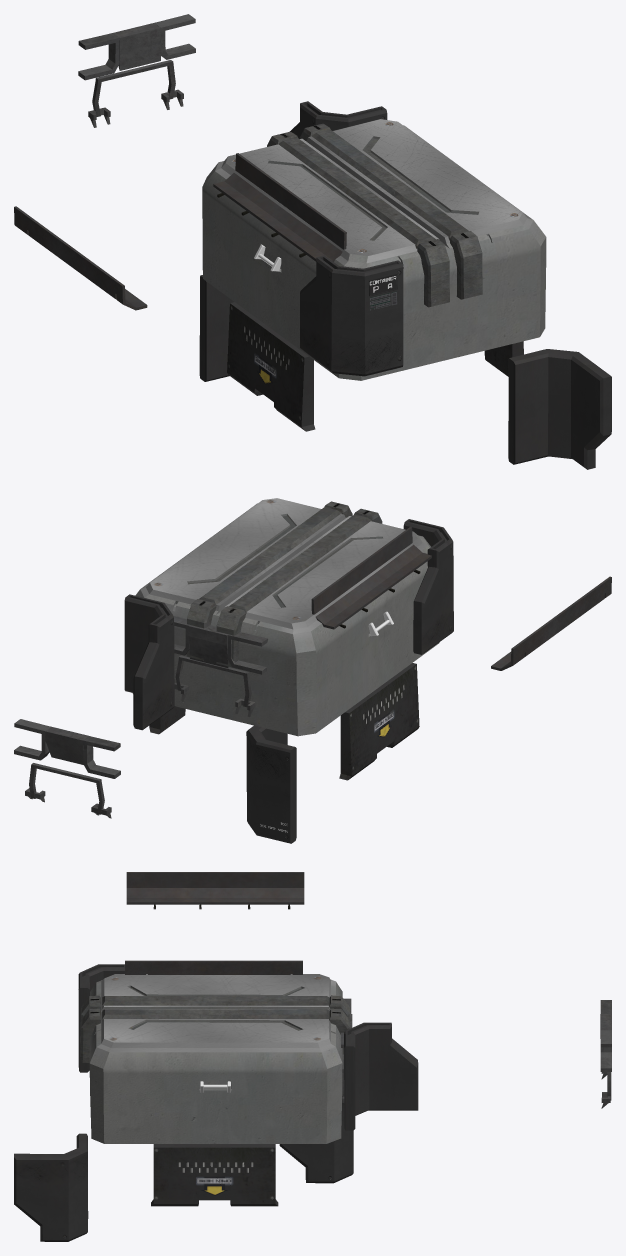
The model's file is Marine_Ammo_Box.FBX.
3 views of the same model, one above another, from view 1: azimuth 30°, elevation 25°; view 2: azimuth 150°, elevation 25°; view 3: azimuth 270°, elevation 25° (orthographic). The views are drawn at different scales.
Parts seen in each view (by area): view 1: Box001, Box002, Box052, Box022, Box045, Box017, Box035, Box050, Box051; view 2: Box001, Box035, Box022, Box045, Box017, Box051, Box050, Box002; view 3: Box001, Box045, Box017, Box022, Box051, Box052, Box050, Box035, Box002.
Boxes of the visible parts, bbox=[...] form: Box001: bbox=[202, 119, 546, 380]; Box002: bbox=[300, 255, 403, 376]; Box052: bbox=[508, 349, 611, 469]; Box022: bbox=[267, 123, 482, 307]; Box045: bbox=[14, 153, 346, 310]; Box017: bbox=[227, 302, 523, 431]; Box035: bbox=[78, 14, 195, 127]; Box050: bbox=[199, 275, 233, 381]; Box051: bbox=[290, 101, 387, 138]; Box001: bbox=[132, 498, 439, 736]; Box035: bbox=[14, 616, 267, 818]; Box022: bbox=[186, 501, 382, 667]; Box045: bbox=[311, 527, 611, 670]; Box017: bbox=[149, 663, 419, 780]; Box051: bbox=[124, 594, 174, 730]; Box050: bbox=[246, 725, 296, 843]; Box002: bbox=[403, 519, 453, 654]; Box001: bbox=[89, 974, 342, 1143]; Box045: bbox=[125, 872, 304, 974]; Box017: bbox=[151, 1144, 278, 1206]; Box022: bbox=[80, 995, 349, 1062]; Box051: bbox=[344, 1022, 418, 1130]; Box052: bbox=[14, 1133, 88, 1241]; Box050: bbox=[279, 1101, 353, 1183]; Box035: bbox=[341, 998, 611, 1108]; Box002: bbox=[78, 964, 124, 1072].
Size of the model in its own units: 147 by 81.73 by 220.
Materials: 9 (9 with a texture image).
